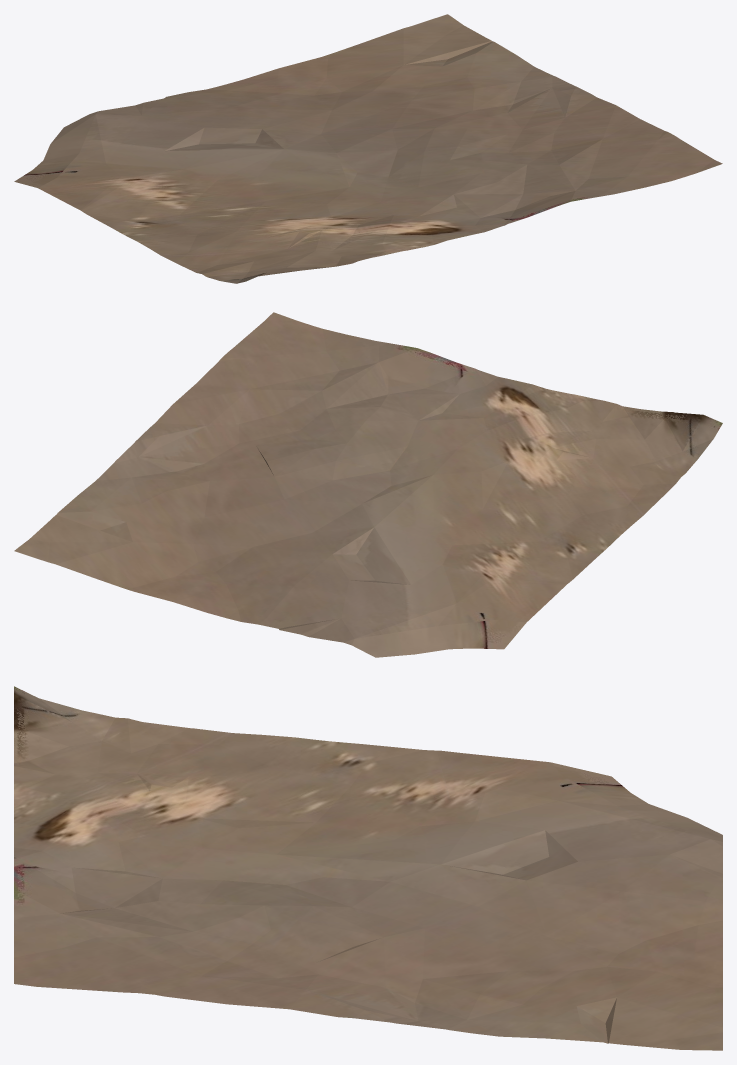
3 views of the same model, one above another, from view 1: azimuth 30°, elevation 25°; view 2: azimuth 150°, elevation 25°; view 3: azimuth 270°, elevation 25° (orthographic). The views are drawn at different scales.
Bounding box in the file's own units: 2.09 × 0.3096 × 2.09.
2 materials, 2 textured.
